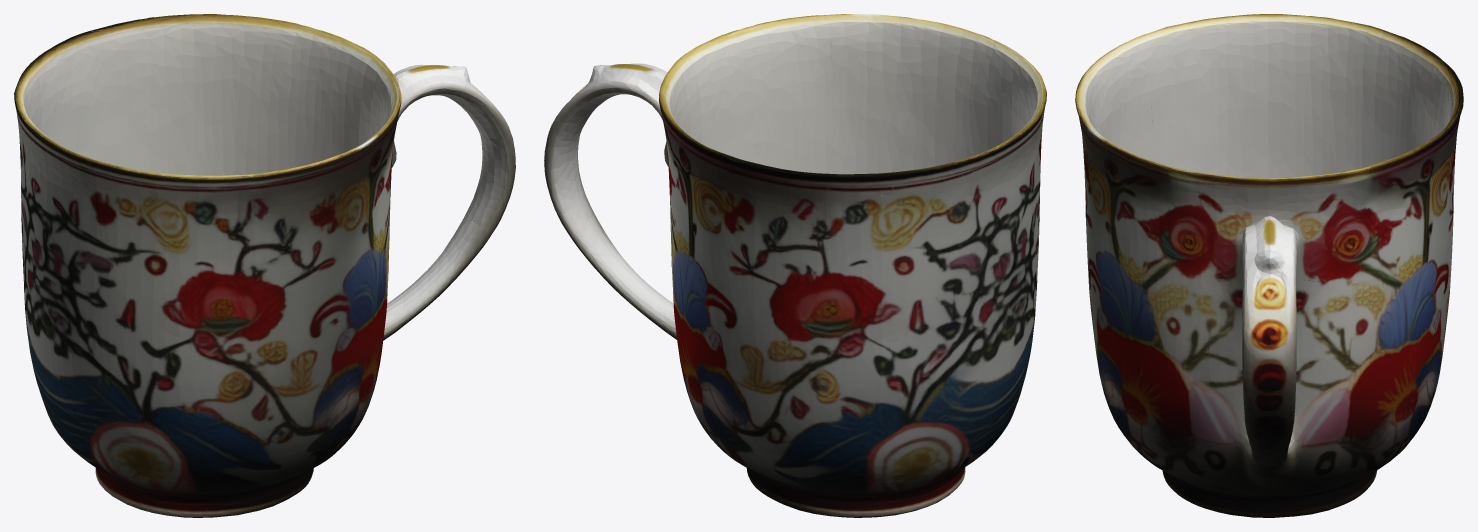
Rendered from porcelain-collectible-mug-japanese.jpeg.glb.
The picture shows the model from 3 angles, left to right: view 1: azimuth 30°, elevation 25°; view 2: azimuth 150°, elevation 25°; view 3: azimuth 270°, elevation 25°; orthographic projection.
Visible parts, largest first — view 1: world; view 2: world; view 3: world.
Part boxes in pixels (x1=…): world: x1=14, y1=14, x2=515, y2=517; world: x1=544, y1=14, x2=1046, y2=517; world: x1=1075, y1=14, x2=1463, y2=517.
Bounding box in the file's own units: 0.9996 × 0.7734 × 0.7156.
Materials: 1 (1 with a texture image).
